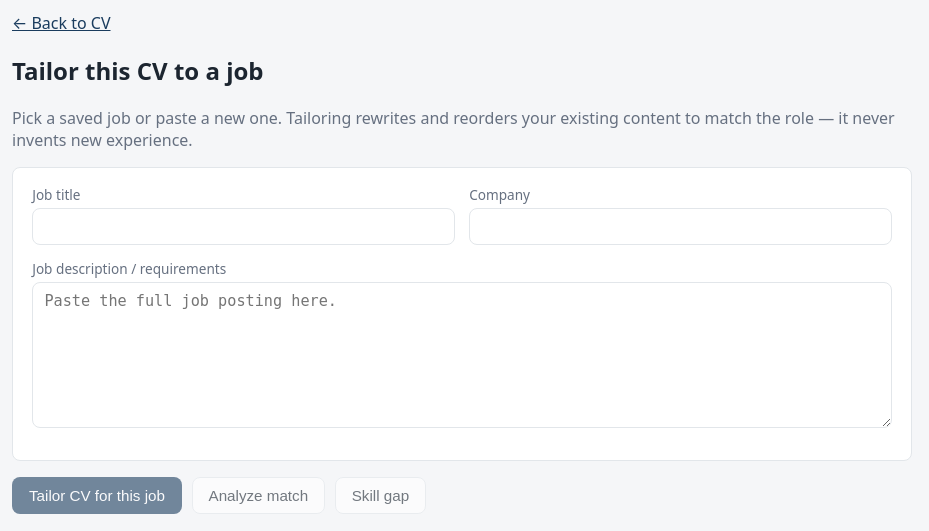
Scenario: <CustomizeCV /> › surfaces a 503
The image size is (929, 531).
Type "Dev" into the field labelled "Job title" at (244, 227), box [32,208,455,245]
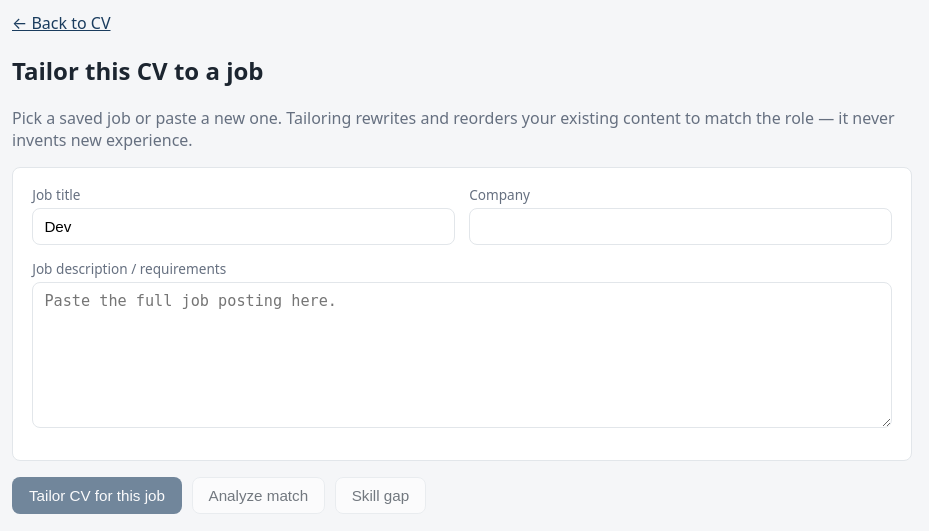
Type "stuff" into the text box labelled "Job description / requirements" at (462, 355), box [32,282,892,428]
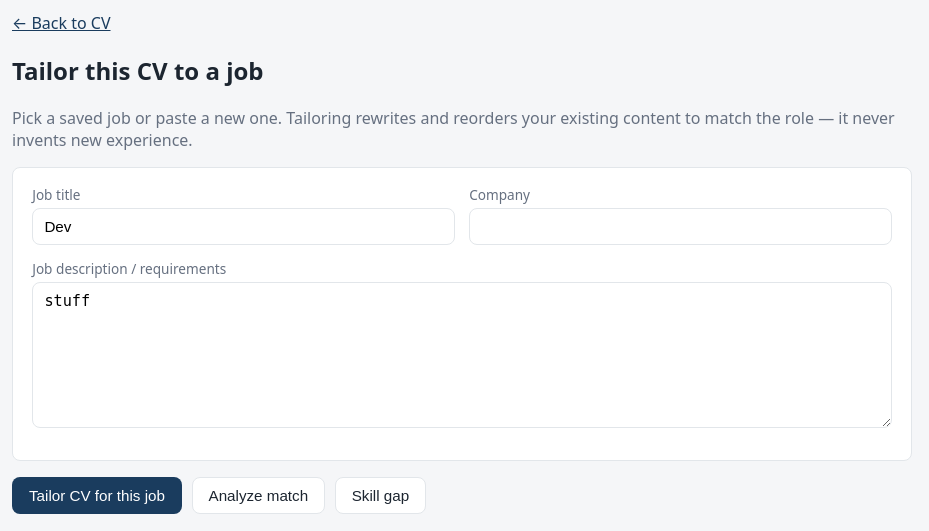
Click the button "Tailor CV for this job" at (97, 495), box [12,477,182,514]
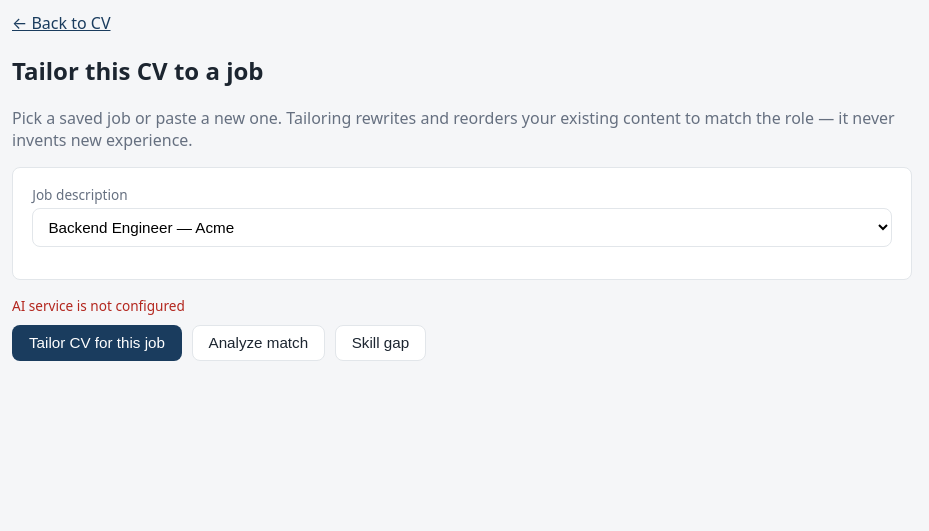
expect the text "AI service is not configured" is shown: met, box [12,296,185,315]
